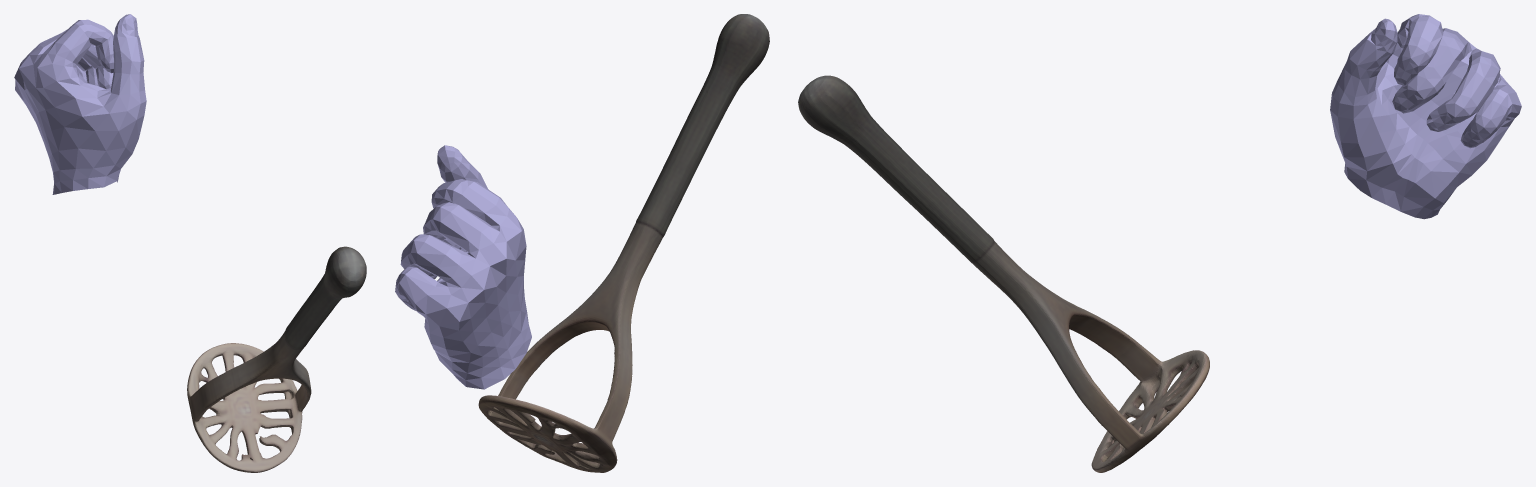
Rendered from frame_0059_source_000059_hand_object.glb.
The picture shows the model from 3 angles, left to right: view 1: azimuth 30°, elevation 25°; view 2: azimuth 150°, elevation 25°; view 3: azimuth 270°, elevation 25°; orthographic projection. The views are drawn at different scales.
Parts seen in each view (by area): view 1: world; view 2: world; view 3: world.
Boxes of the visible parts, left/top/right/bottom form: world: left=14, top=14, right=366, bottom=472; world: left=395, top=14, right=769, bottom=472; world: left=798, top=14, right=1521, bottom=472.
Bounding box in the file's own units: 0.1038 × 0.2493 × 0.3731.
